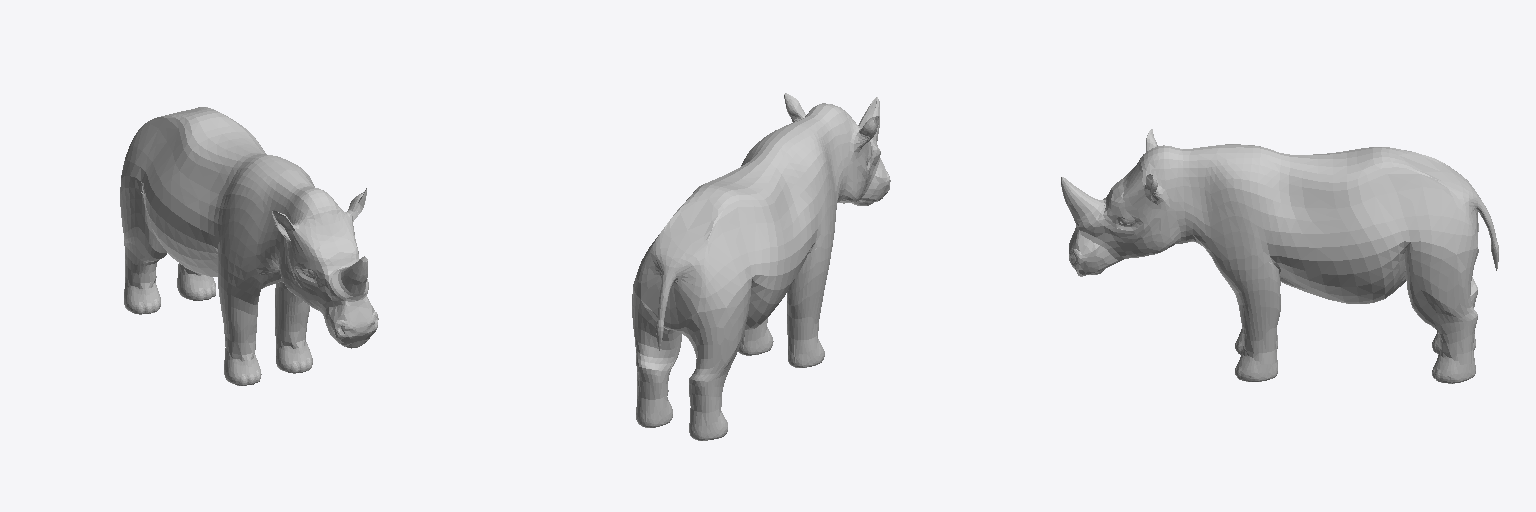
Rendered from RHINO_1.OBJ.
3 renders of one model, left to right at view 1: azimuth 30°, elevation 25°; view 2: azimuth 150°, elevation 25°; view 3: azimuth 270°, elevation 25°, orthographic.
Parts seen in each view (by area): view 1: rhn1_body; view 2: rhn1_body; view 3: rhn1_body.
Boxes of the visible parts, x1=… form: rhn1_body: x1=120, y1=107, x2=378, y2=385; rhn1_body: x1=632, y1=93, x2=890, y2=440; rhn1_body: x1=1061, y1=129, x2=1498, y2=383.
Bounding box in the file's own units: 1.04 × 1.88 × 3.44.